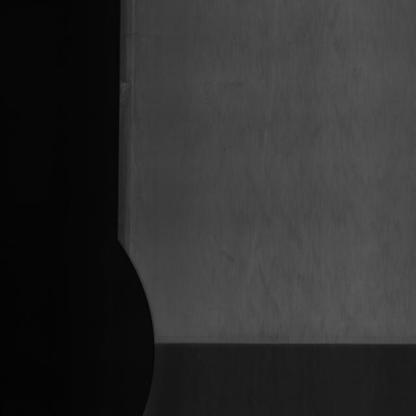welding_line: (139, 322, 414, 366)
